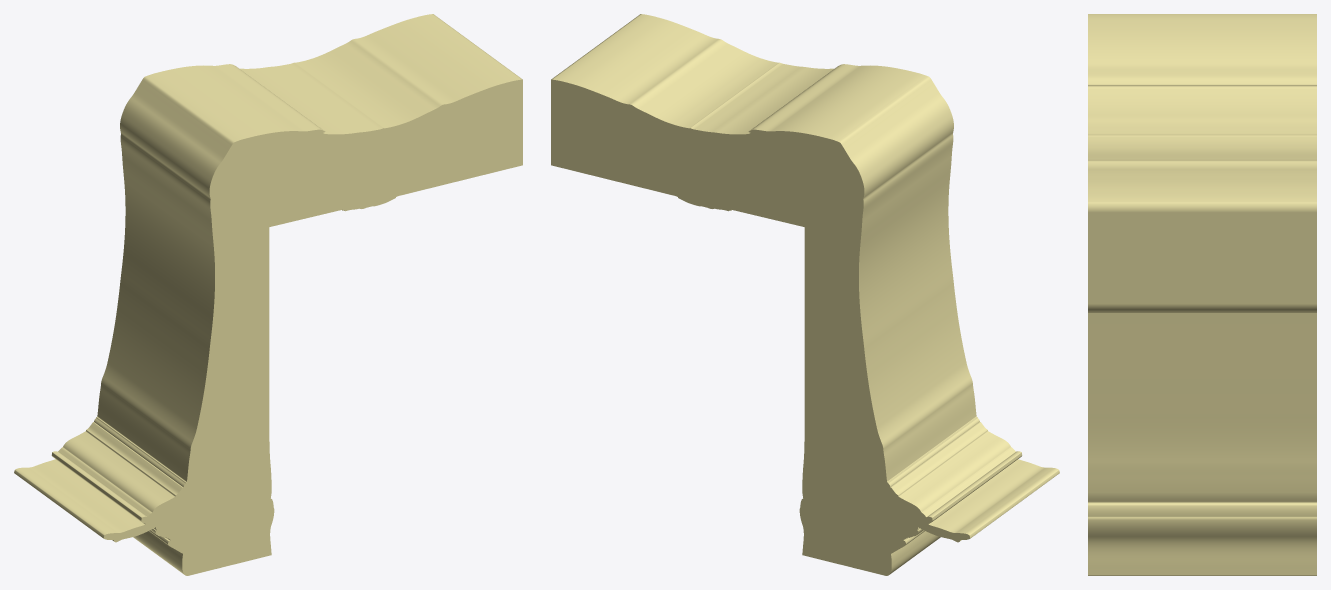
Rendered from sandbordercorner.fbx.
The picture shows the model from 3 angles, left to right: view 1: azimuth 30°, elevation 25°; view 2: azimuth 150°, elevation 25°; view 3: azimuth 270°, elevation 25°; orthographic projection. The views are drawn at different scales.
Parts seen in each view (by area): view 1: Curve.001; view 2: Curve.001; view 3: Curve.001.
Part boxes in pixels (box(x1,y1,x2,y2)): Curve.001: box(14, 14, 522, 575); Curve.001: box(551, 14, 1059, 575); Curve.001: box(1088, 14, 1316, 575).
Bounding box in the file's own units: 28.6 × 27.59 × 10.58.
